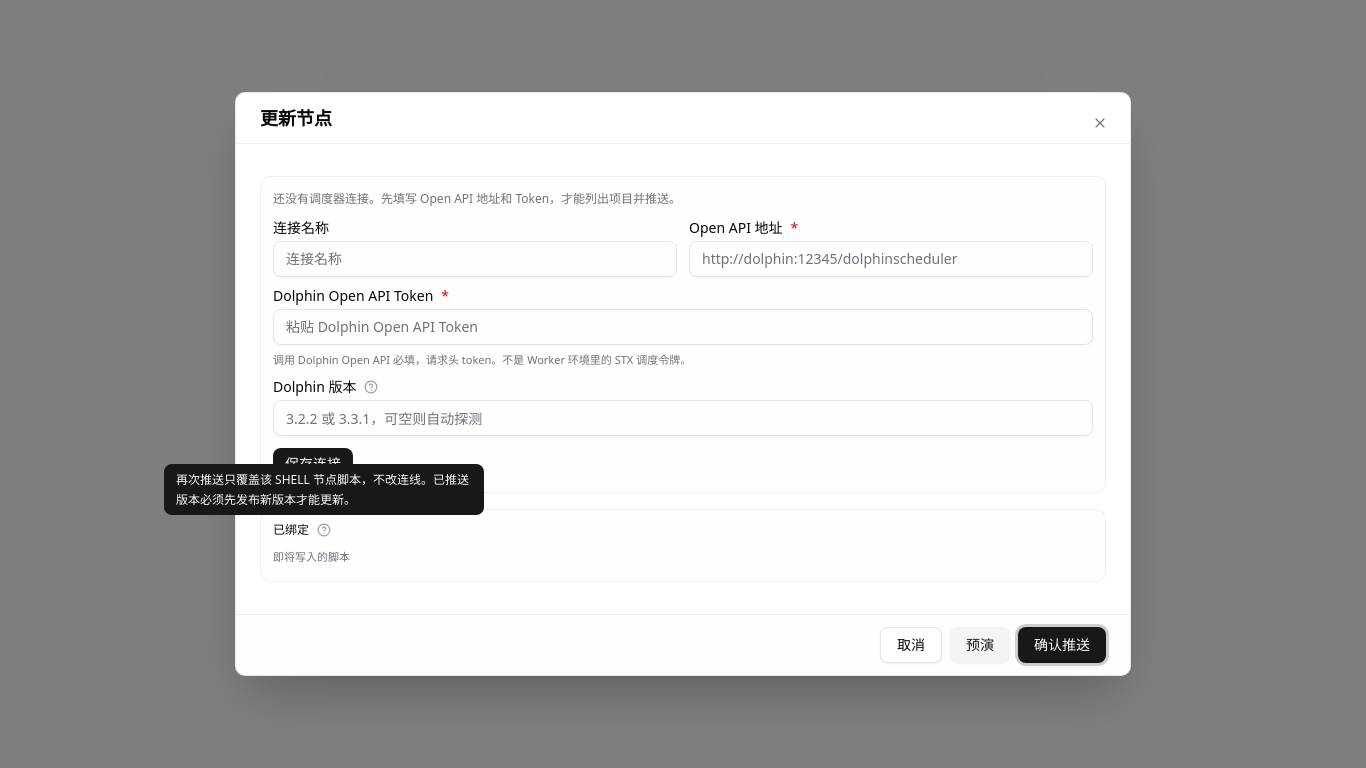
Test case: DolphinPushDialog › keeps an enabled confirm button tooltip-free and exposes the bound hint via HelpHint
This screenshot has width=1366, height=768.
Focus the button "确认推送" at (1062, 645), box [1018,627,1106,663]
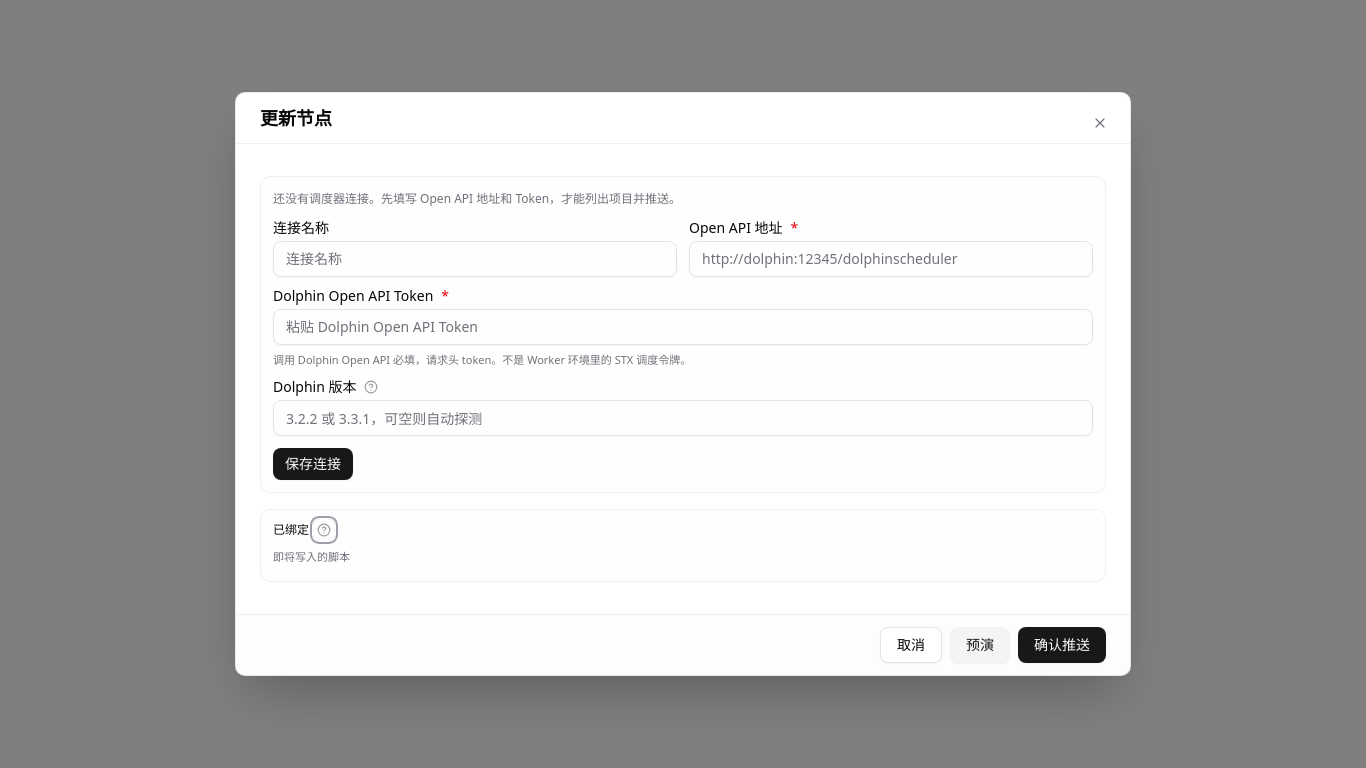
Expected: the element with test id "dolphin-bound-status" reads "已绑定", [273,521,309,538]
Expected: the tooltip "再次推送只覆盖该 SHELL 节点脚本，不改连线。已推送版本必须先发布新版本才能更新。" is gone
Focus the button with test id "dolphin-bound-hint" at (324, 530), box [313,519,335,541]
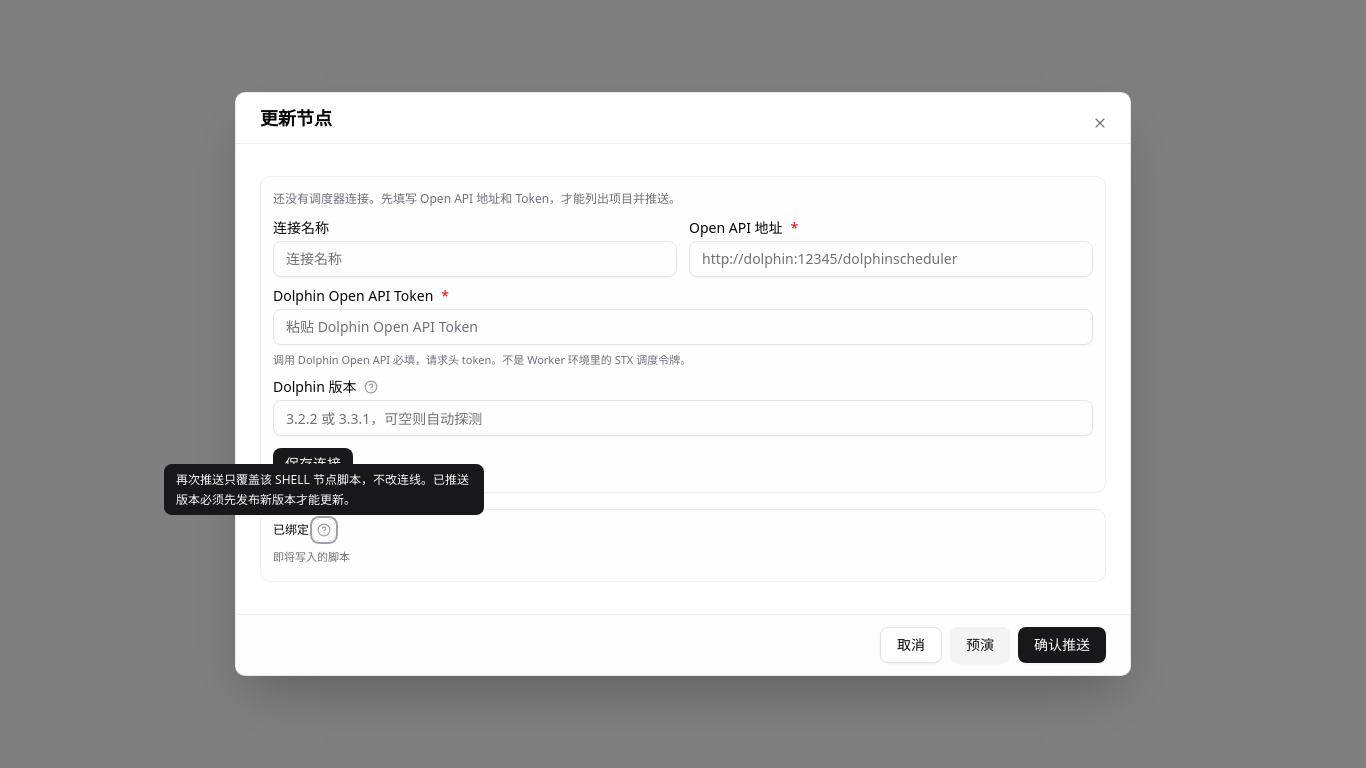
Expected: the tooltip reads "再次推送只覆盖该 SHELL 节点脚本，不改连线。已推送版本必须先发布新版本才能更新。", [176,471,469,508]
